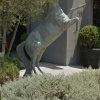Statue: (11, 8, 83, 67)
